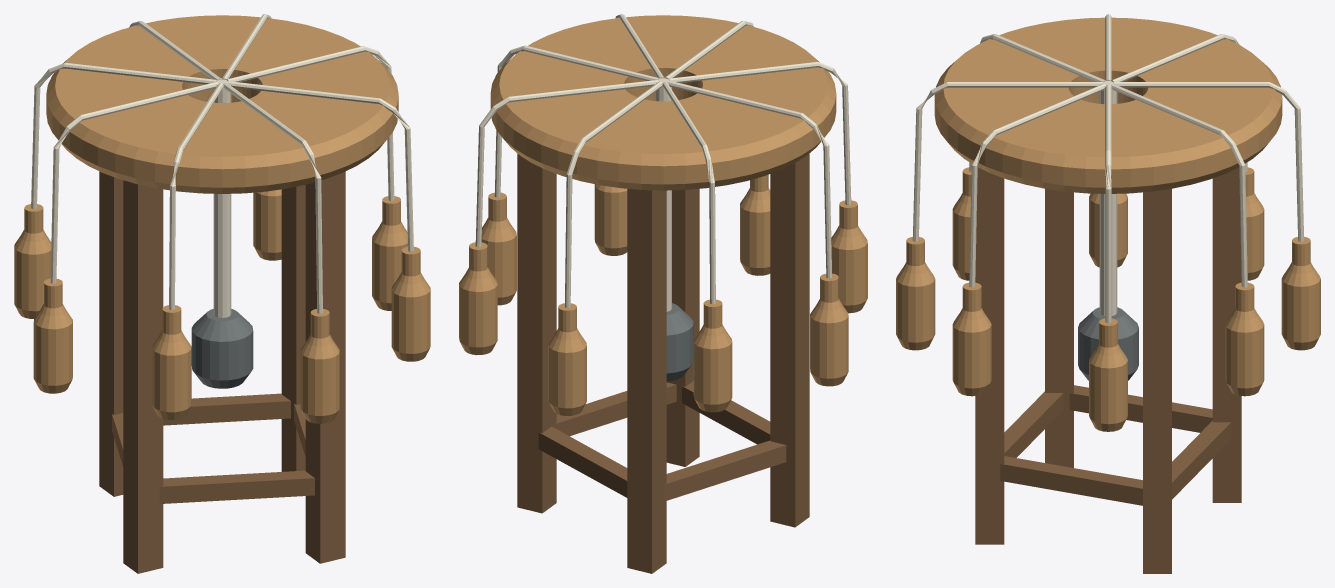
3 renders of one model, left to right at view 1: azimuth 30°, elevation 25°; view 2: azimuth 150°, elevation 25°; view 3: azimuth 270°, elevation 25°, orthographic.
Parts seen in each view (by area): view 1: WholeOpenCentreBraidingTable, WholeGroundFootLeg_2, WholeGroundFootLeg_3, WholeGroundFootLeg_1, WholeGroundFootLeg_0, WholeCentralSuspendedWeight, WholeLowerTie_2, WholeSuspendedBobbin_7, WholeSuspendedBobbin_5, WholeSuspendedBobbin_6, WholeSuspendedBobbin_4, WholeSuspendedBobbin_3 (+11 smaller); view 2: WholeOpenCentreBraidingTable, WholeGroundFootLeg_1, WholeGroundFootLeg_2, WholeGroundFootLeg_0, WholeGroundFootLeg_3, WholeSuspendedBobbin_3, WholeSuspendedBobbin_2, WholeSuspendedBobbin_4, WholeSuspendedBobbin_1, WholeLowerTie_1, WholeSuspendedBobbin_5, WholeSuspendedBobbin_6 (+14 smaller); view 3: WholeOpenCentreBraidingTable, WholeGroundFootLeg_0, WholeGroundFootLeg_3, WholeGroundFootLeg_1, WholeGroundFootLeg_2, WholeLowerTie_3, WholeSuspendedBobbin_1, WholeSuspendedBobbin_7, WholeSuspendedBobbin_2, WholeSuspendedBobbin_6, WholeSuspendedBobbin_0, WholeCentralSuspendedWeight (+14 smaller).
Part boxes in pixels (x1,y1,x2,y2): WholeOpenCentreBraidingTable: [46, 15, 398, 193]; WholeGroundFootLeg_2: [123, 180, 163, 573]; WholeGroundFootLeg_3: [305, 171, 345, 563]; WholeGroundFootLeg_1: [99, 171, 123, 496]; WholeGroundFootLeg_0: [281, 185, 305, 471]; WholeCentralSuspendedWeight: [191, 309, 253, 388]; WholeLowerTie_2: [159, 470, 314, 503]; WholeSuspendedBobbin_7: [391, 246, 430, 361]; WholeSuspendedBobbin_5: [152, 305, 191, 419]; WholeSuspendedBobbin_6: [300, 309, 339, 423]; WholeSuspendedBobbin_4: [33, 278, 72, 393]; WholeSuspendedBobbin_3: [14, 204, 51, 318]; WholeOpenCentreBraidingTable: [490, 15, 836, 190]; WholeGroundFootLeg_1: [627, 188, 666, 573]; WholeGroundFootLeg_2: [770, 153, 809, 527]; WholeGroundFootLeg_0: [517, 153, 556, 513]; WholeGroundFootLeg_3: [666, 188, 699, 466]; WholeSuspendedBobbin_3: [693, 299, 732, 412]; WholeSuspendedBobbin_2: [548, 303, 586, 415]; WholeSuspendedBobbin_4: [810, 273, 848, 386]; WholeSuspendedBobbin_1: [459, 242, 497, 355]; WholeLowerTie_1: [664, 440, 786, 501]; WholeSuspendedBobbin_5: [831, 200, 867, 313]; WholeSuspendedBobbin_6: [740, 174, 770, 275]; WholeOpenCentreBraidingTable: [934, 17, 1282, 193]; WholeGroundFootLeg_0: [1143, 188, 1171, 573]; WholeGroundFootLeg_3: [975, 167, 1004, 544]; WholeGroundFootLeg_1: [1212, 167, 1241, 502]; WholeGroundFootLeg_2: [1045, 188, 1073, 467]; WholeLowerTie_3: [1000, 456, 1142, 505]; WholeSuspendedBobbin_1: [1225, 282, 1264, 396]; WholeSuspendedBobbin_7: [952, 282, 991, 396]; WholeSuspendedBobbin_2: [1281, 236, 1320, 350]; WholeSuspendedBobbin_6: [896, 236, 935, 350]; WholeSuspendedBobbin_0: [1089, 318, 1127, 431]; WholeCentralSuspendedWeight: [1078, 307, 1138, 380].
Bounding box in the file's own units: 0.586 × 0.6632 × 0.586.
